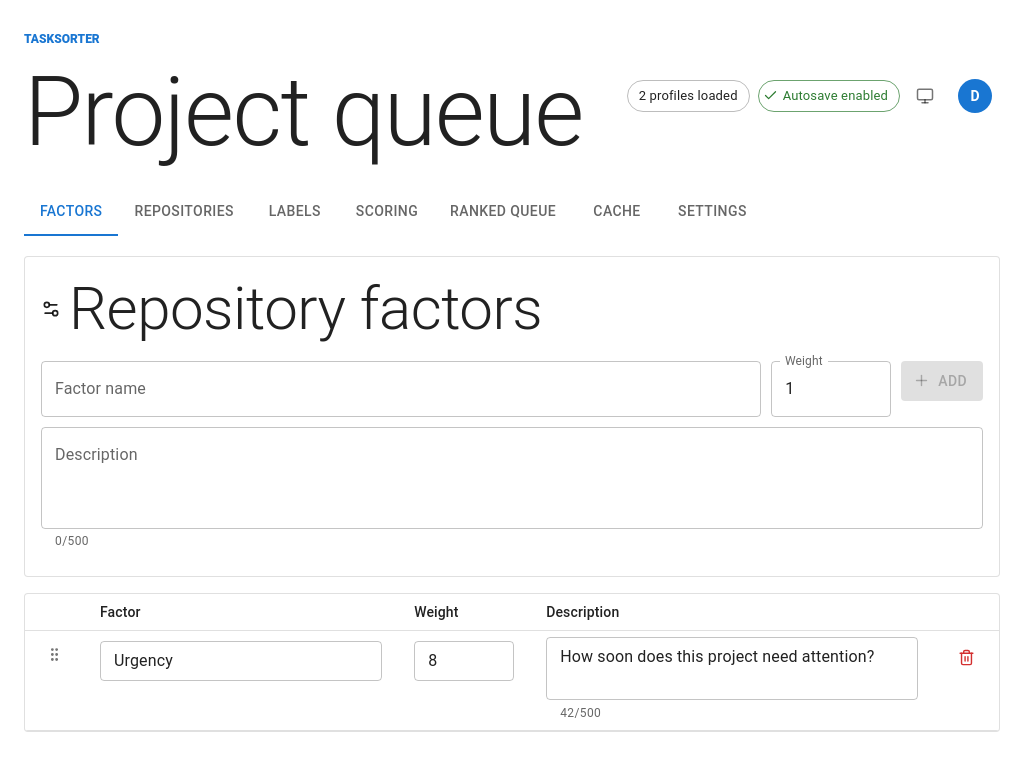
Scenario: App › shows repository factor ratings and calculated scores
The width and height of the screenshot is (1036, 768).
expect the text "Autosave enabled" is shown: met, box x1=783 y1=88 x2=888 y2=103
Click the tab "Repositories". click: (184, 212)
box: x1=118 y1=188 x2=250 y2=236
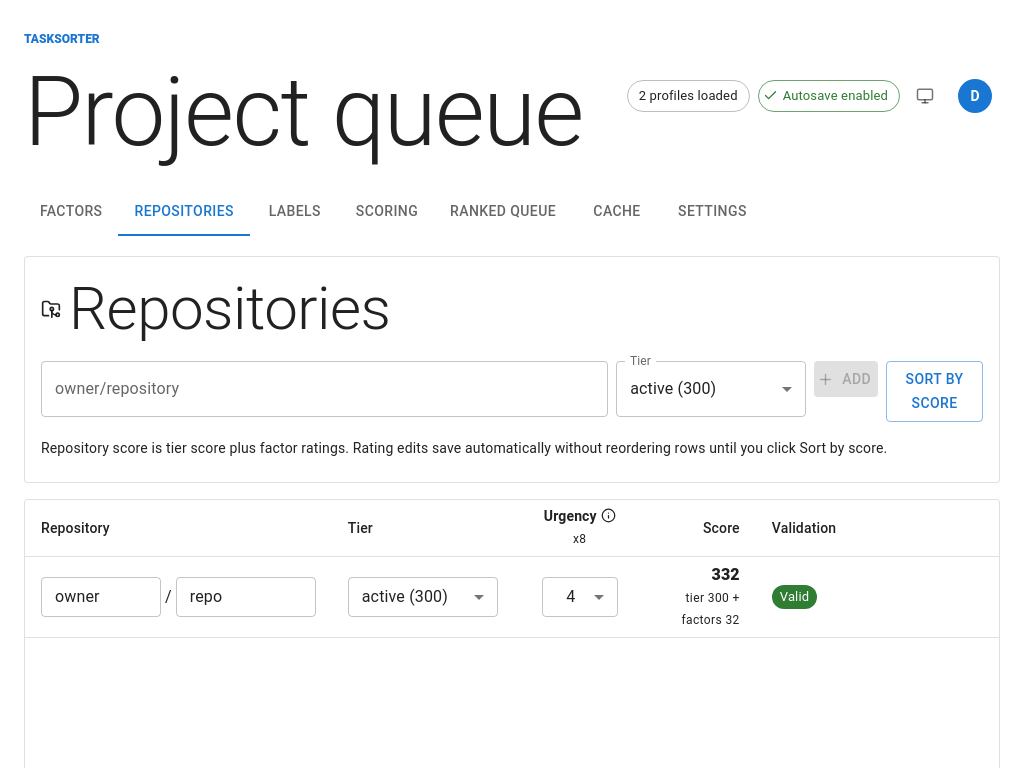
expect the 1st field showing "owner" is shown: met, box x1=41 y1=577 x2=161 y2=617
expect the text "Urgency" is shown: met, box x1=544 y1=506 x2=597 y2=526
expect the element named "Urgency rating for owner/repo" is shown: met, box x1=542 y1=577 x2=618 y2=617
